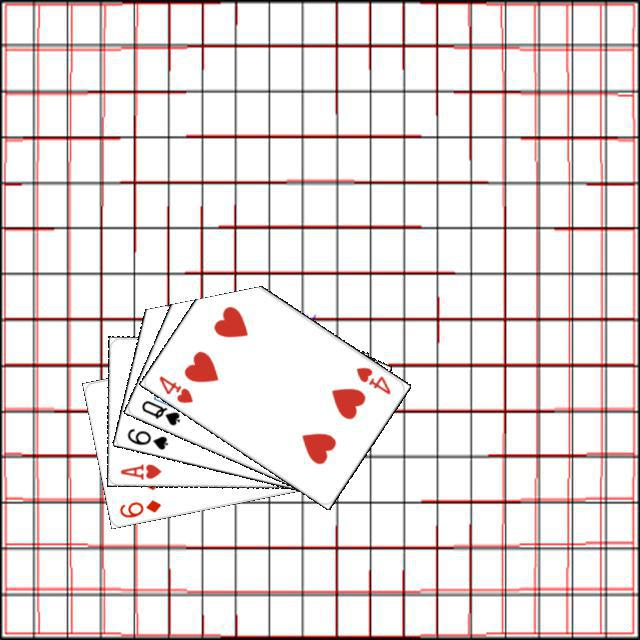4h: (351, 362, 393, 396), (154, 371, 195, 405)
6d: (115, 495, 163, 520)
6s: (122, 424, 170, 451)
Ah: (115, 459, 163, 481)
Qs: (136, 395, 182, 427)
